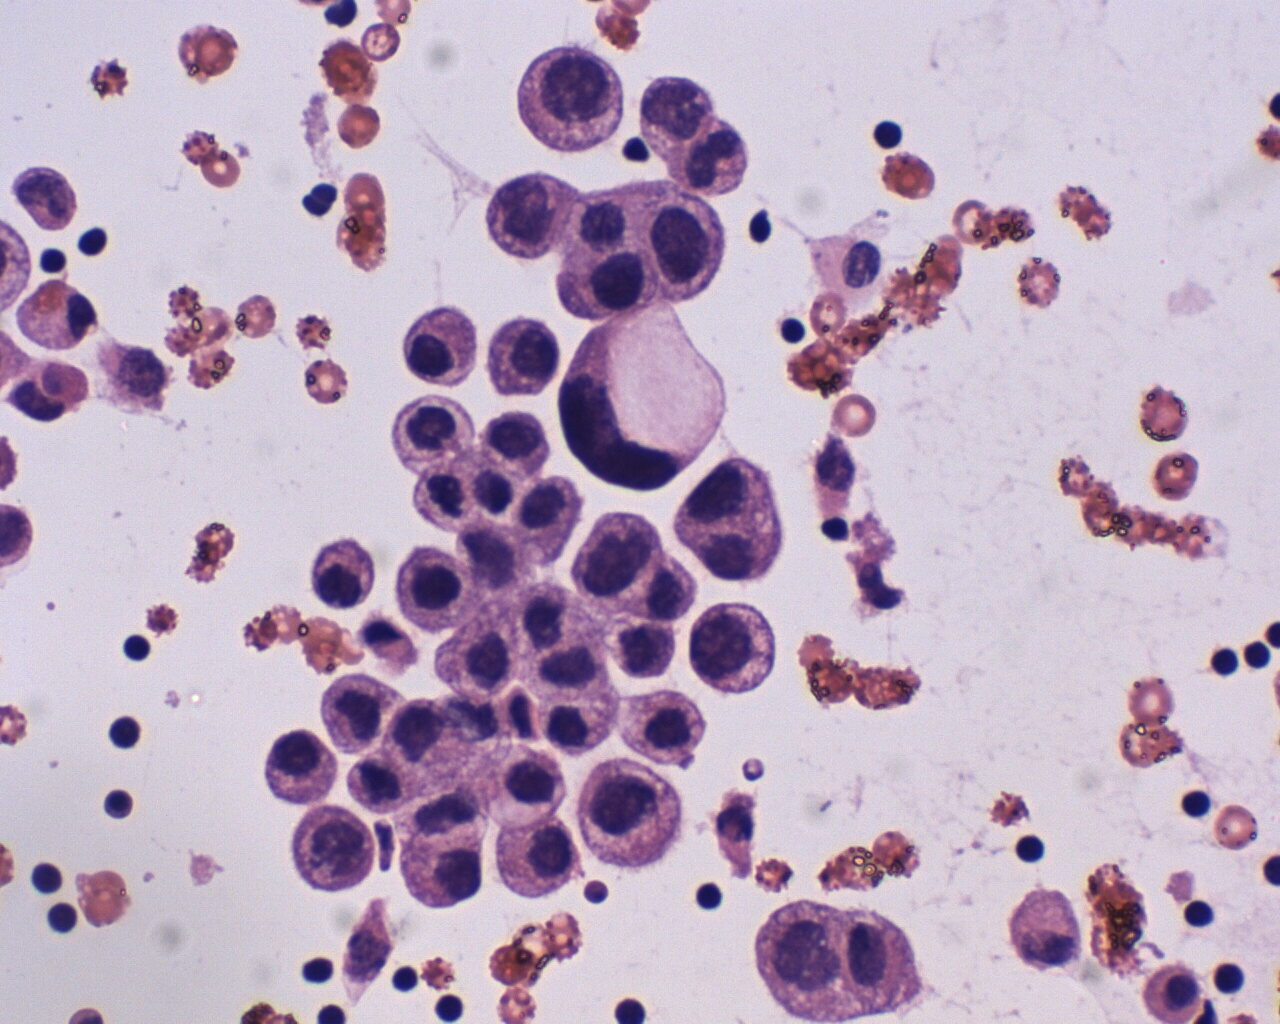ab: (555, 307, 723, 493), (578, 758, 686, 875), (511, 42, 619, 153), (633, 182, 728, 304), (686, 600, 779, 696), (483, 170, 576, 263), (287, 798, 378, 893), (571, 511, 662, 603), (381, 392, 475, 471), (493, 822, 584, 904), (478, 313, 556, 405), (317, 662, 394, 753), (391, 546, 473, 630), (675, 117, 752, 200), (471, 406, 556, 481), (634, 70, 713, 143)
lymph: (1179, 779, 1218, 824), (868, 109, 906, 153), (1009, 829, 1049, 868), (115, 629, 153, 668)
meso: (1139, 958, 1206, 1024)
